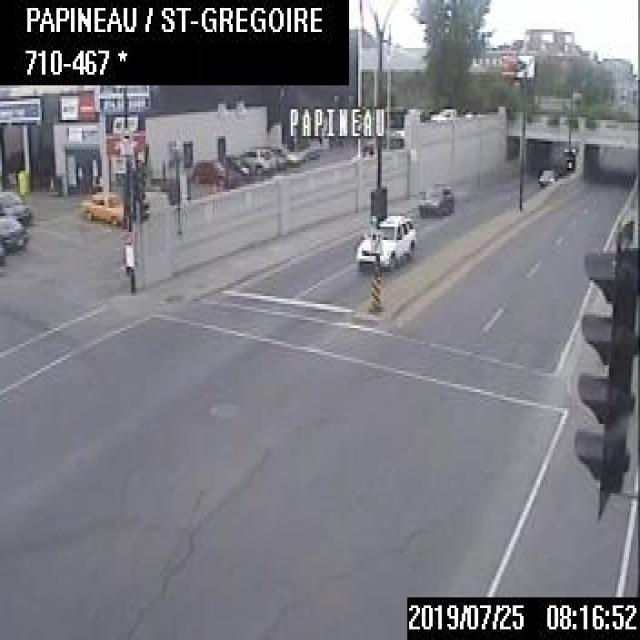vehicle: (353, 210, 416, 269), (80, 186, 130, 228), (417, 177, 455, 219), (0, 214, 31, 254), (0, 187, 35, 221), (190, 156, 228, 185), (238, 144, 274, 174), (222, 155, 248, 181), (534, 165, 552, 187)
